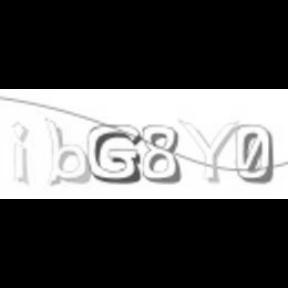0: (235, 123, 275, 185)
8: (140, 124, 180, 186)
G: (86, 122, 142, 186)
Y: (176, 117, 238, 185)
b: (42, 116, 92, 188)
i: (8, 121, 30, 185)
